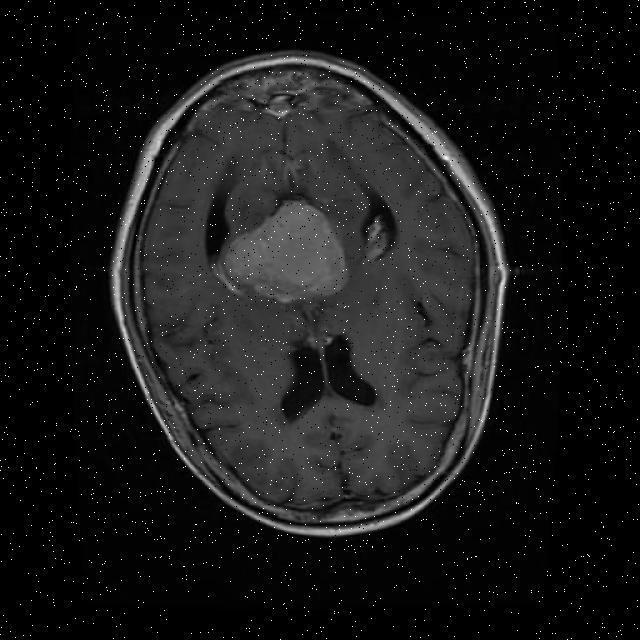Meningioma: (219, 201, 345, 302)
